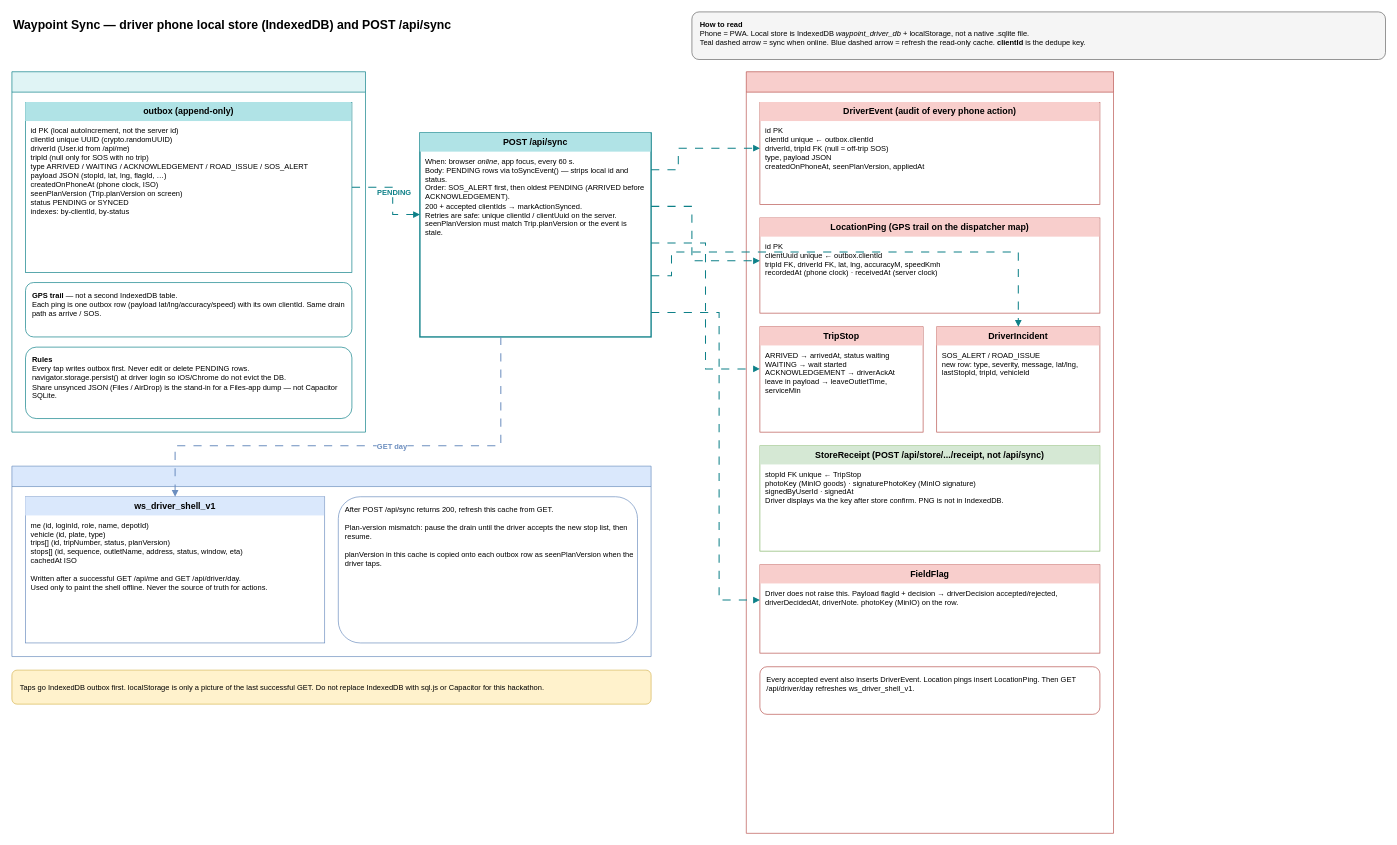
Image size: 1397x845. Some labels were removed from this diagram. Here are the shapes that lost their labels. From the top down, the box of each, then its label:
(11, 71, 366, 432): Phone — IndexedDB waypoint_driver_db (works with no signal)
(746, 71, 1114, 833): Server Postgres (Prisma — already in schema.prisma)
(11, 465, 651, 657): Phone — localStorage cache (read-only copy)
